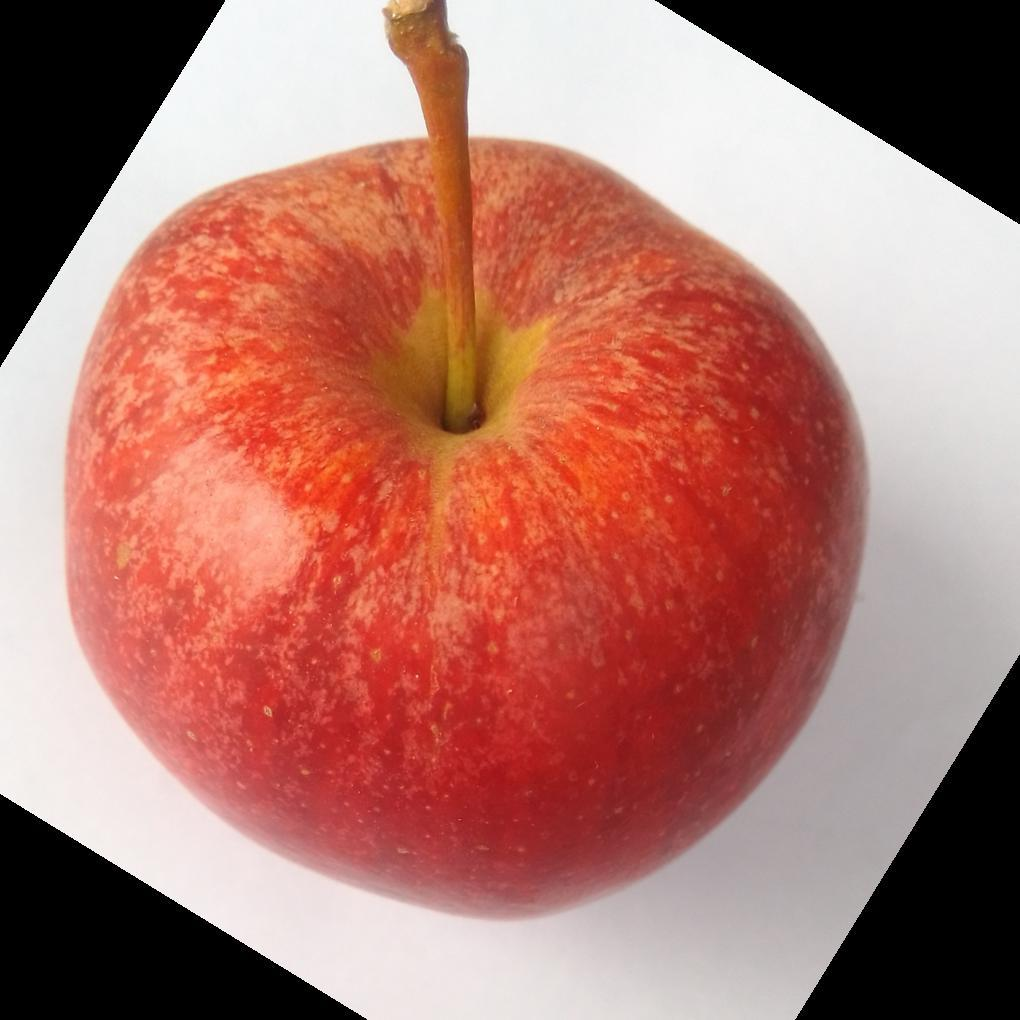FreshGuava: (58, 0, 870, 927)
